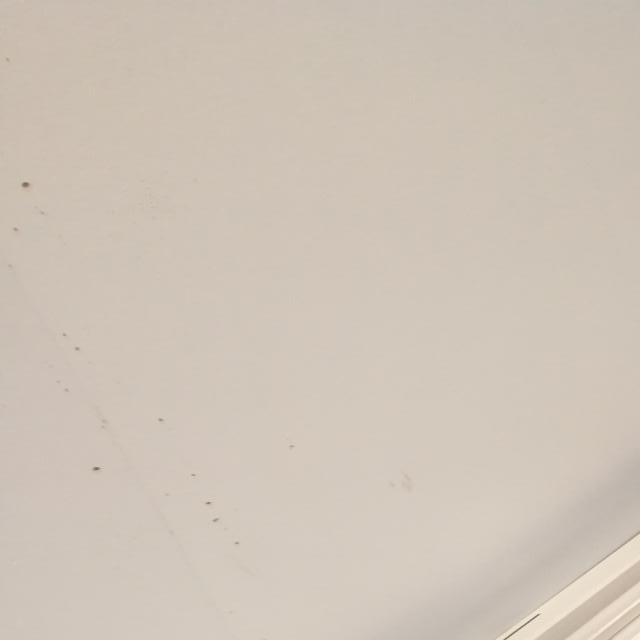fluorescent tube: (309, 279, 640, 640)
